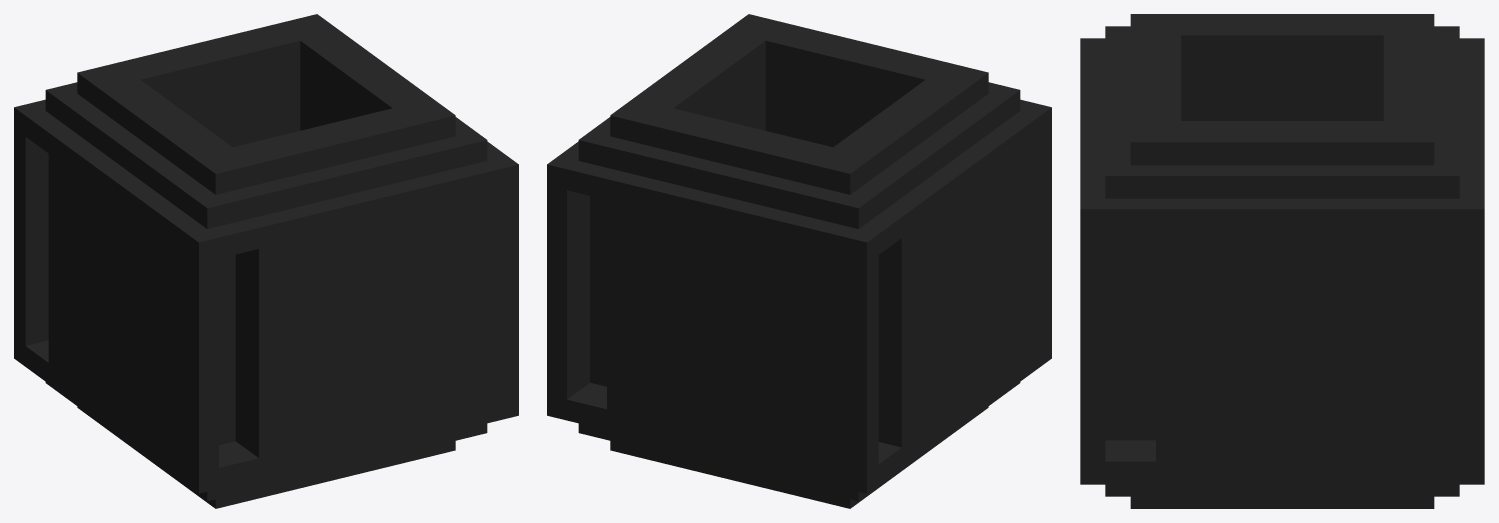
Rendered from cauldronBattery.obj.
The picture shows the model from 3 angles, left to right: view 1: azimuth 30°, elevation 25°; view 2: azimuth 150°, elevation 25°; view 3: azimuth 270°, elevation 25°; orthographic projection. The views are drawn at different scales.
Size of the model in its own units: 16 by 16 by 16.
Materials: 1 (1 with a texture image).
